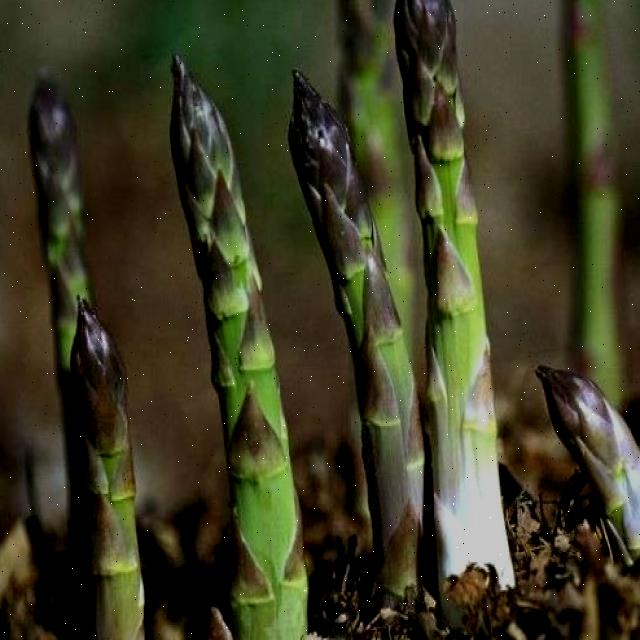aspargus: (287, 72, 439, 603), (168, 56, 305, 640), (391, 2, 515, 588), (70, 293, 143, 640)
